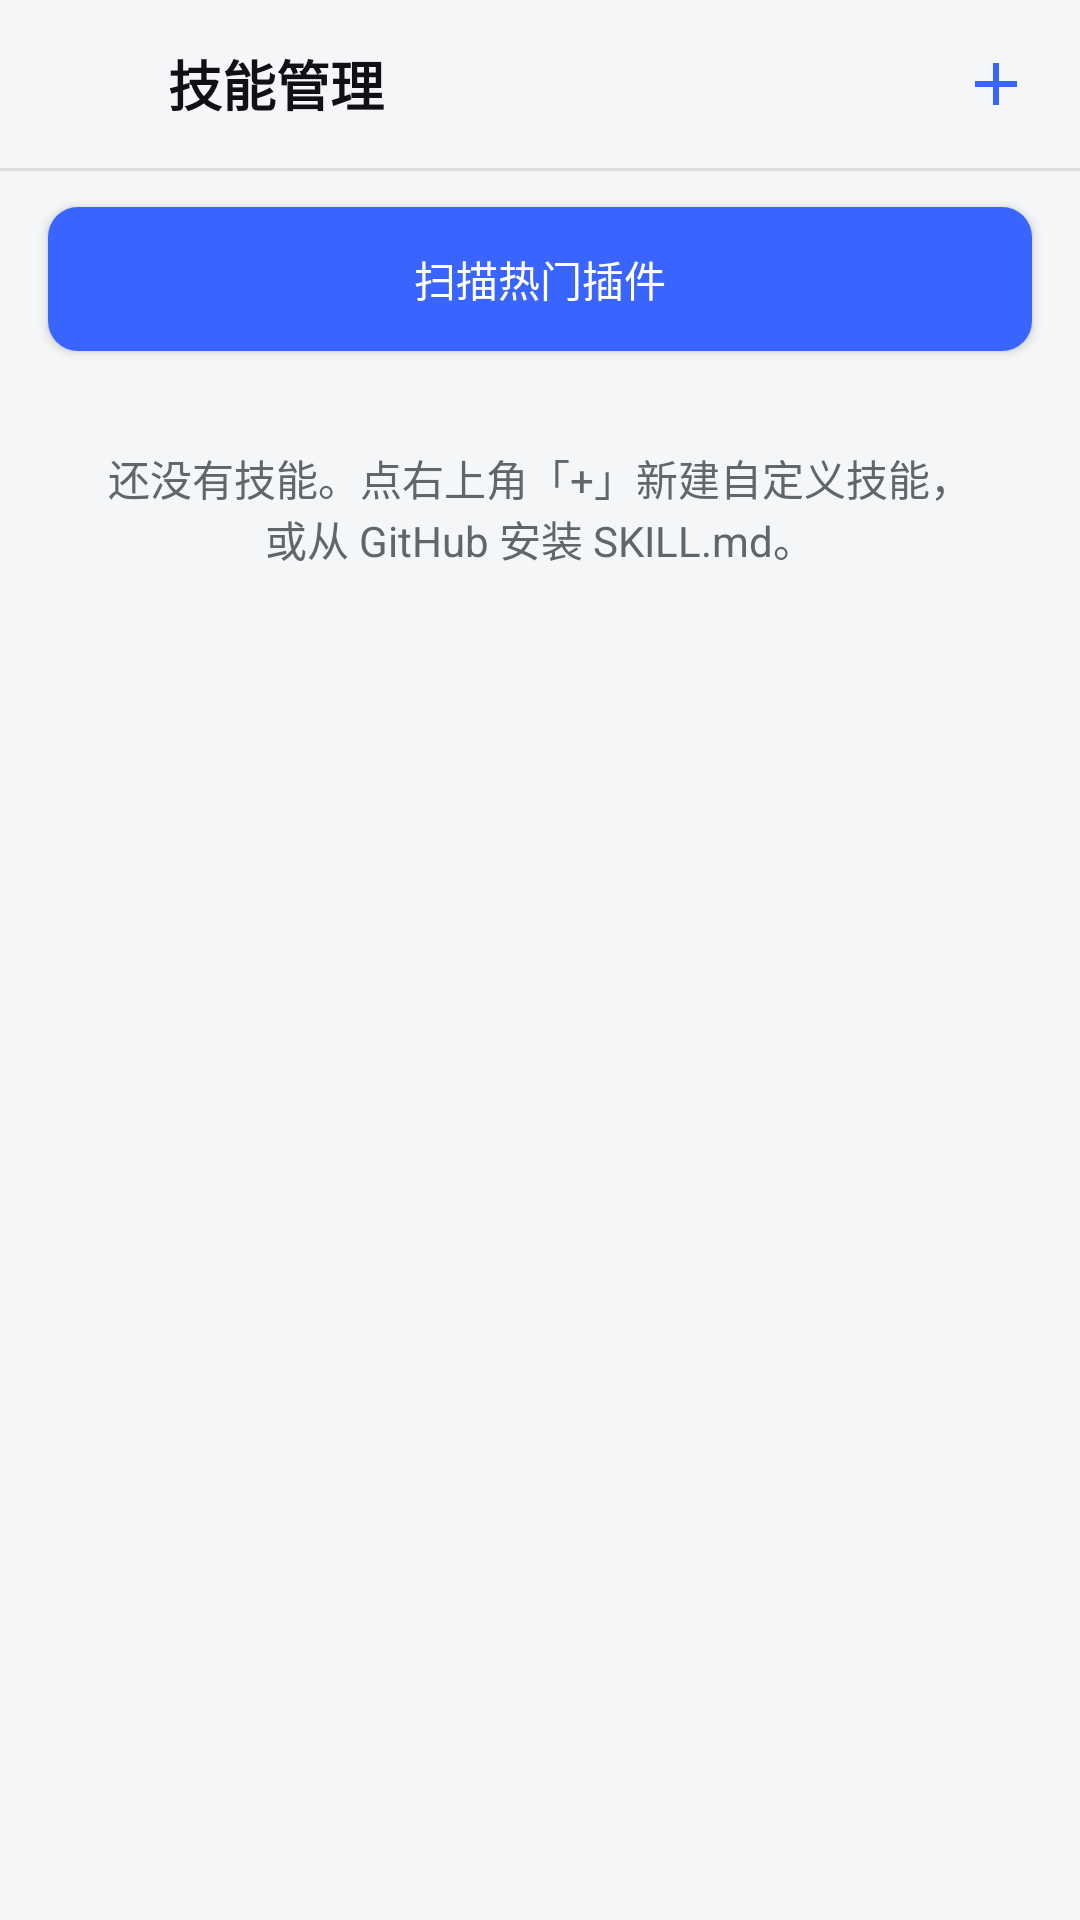

Point at icon controls on the screen. Image size 1080px×1920px, points as point (x, y).
添加技能: point (996, 84)
